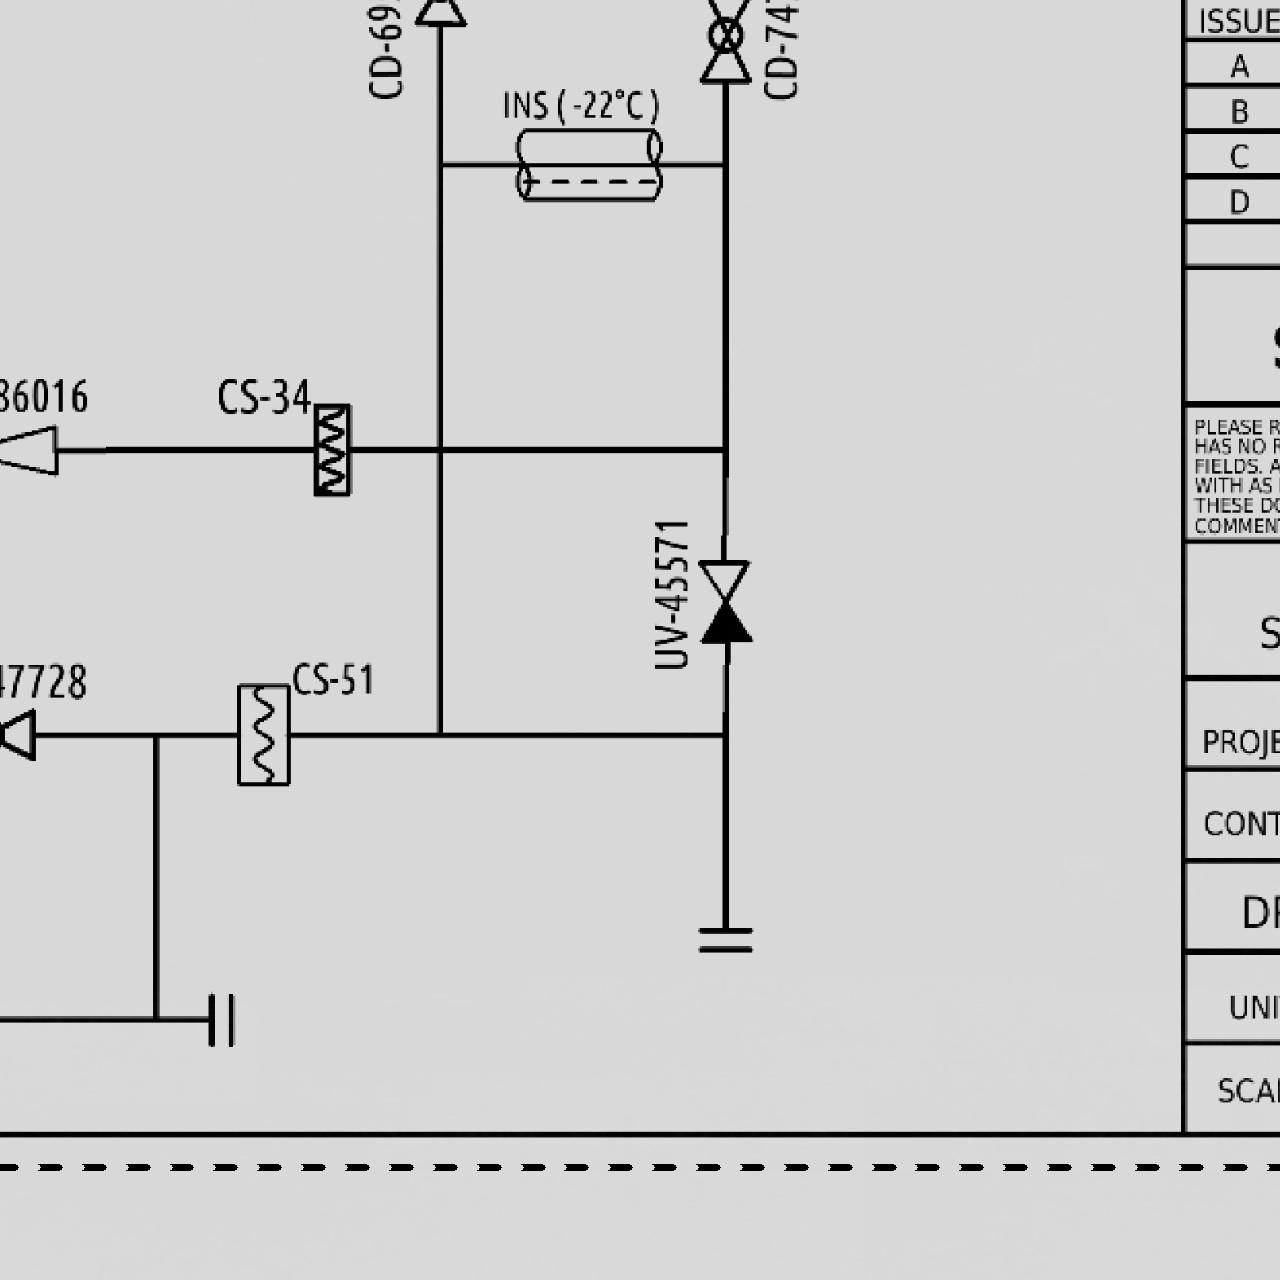Half closed valve: (693, 555, 756, 647)
